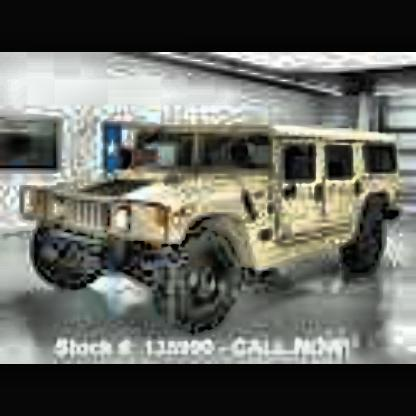AM General Hummer SUV 2000: (21, 120, 413, 348)
